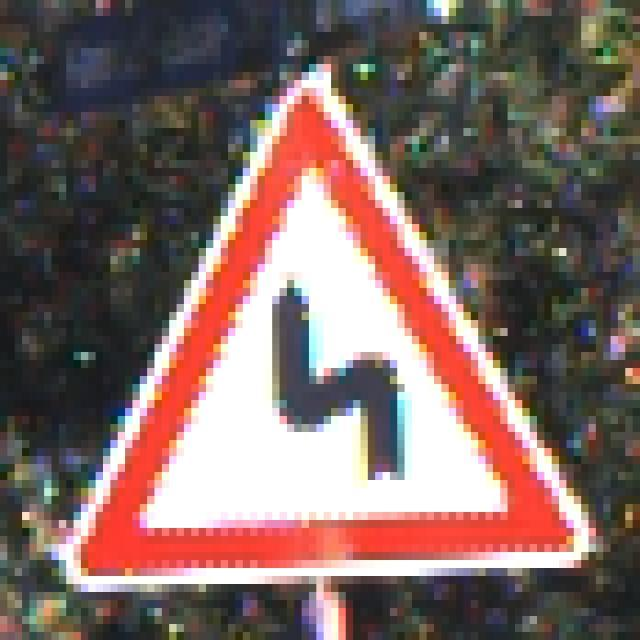left reverse bend: (57, 63, 610, 589)
